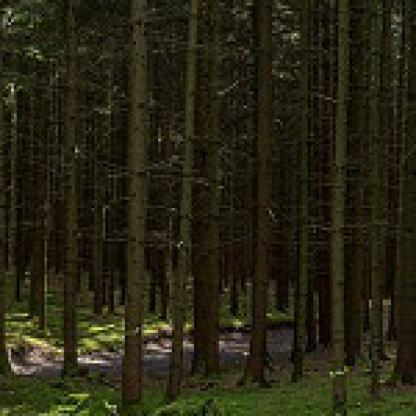road: (0, 302, 408, 386)
